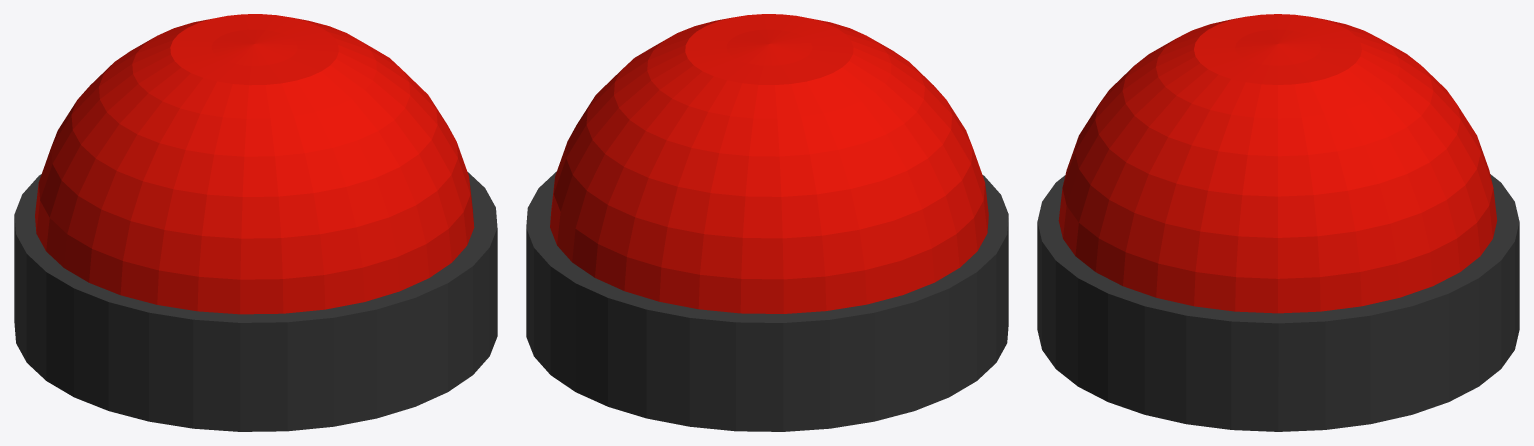
File: Klaxon.fbx
The picture shows the model from 3 angles, left to right: view 1: azimuth 30°, elevation 25°; view 2: azimuth 150°, elevation 25°; view 3: azimuth 270°, elevation 25°; orthographic projection.
Visible parts, largest first — view 1: Sphere, Cylinder; view 2: Sphere, Cylinder; view 3: Sphere, Cylinder.
Part boxes in pixels (box(x1,y1,x2,y2)): Sphere: box(35, 14, 474, 314); Cylinder: box(14, 172, 497, 431); Sphere: box(550, 14, 988, 313); Cylinder: box(526, 171, 1008, 431); Sphere: box(1058, 14, 1497, 313); Cylinder: box(1037, 174, 1519, 431).
Size of the model in its own units: 219 by 143 by 219.
